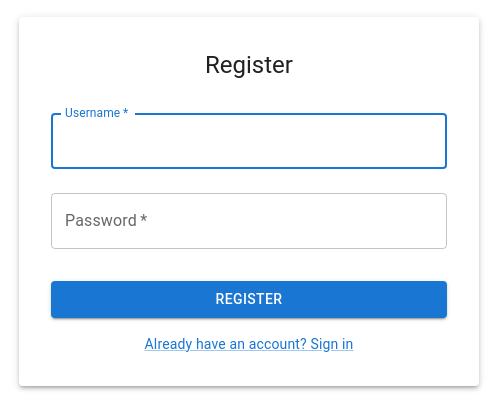
it: Register Component › disables form during submission
Type "validuser" into the field labelled "Username *" at (249, 141), box 51,113 -> 447,169
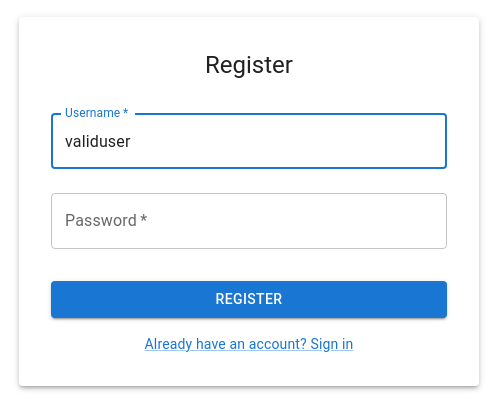
Type "ValidPass1!" into the password field labelled "Password *" at (249, 221), box 51,193 -> 447,249
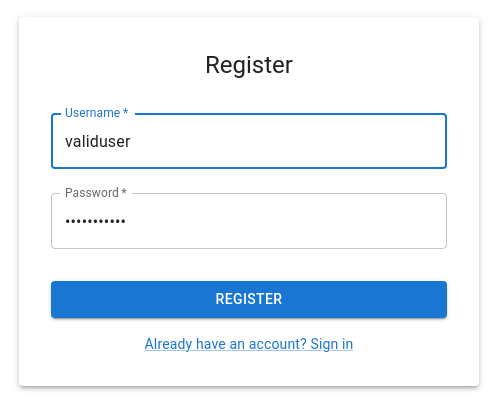
Submit the form from the button "Register", box 51,281 -> 447,318
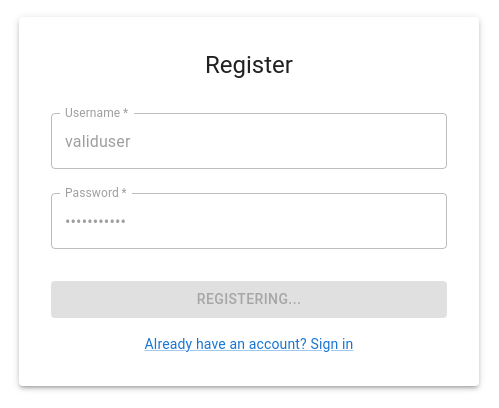
Expected: the field labelled "Username *" is disabled, 51,113 -> 447,169
Expected: the password field labelled "Password *" is disabled, 51,193 -> 447,249
Expected: the button "Registering..." is disabled, 51,281 -> 447,318
